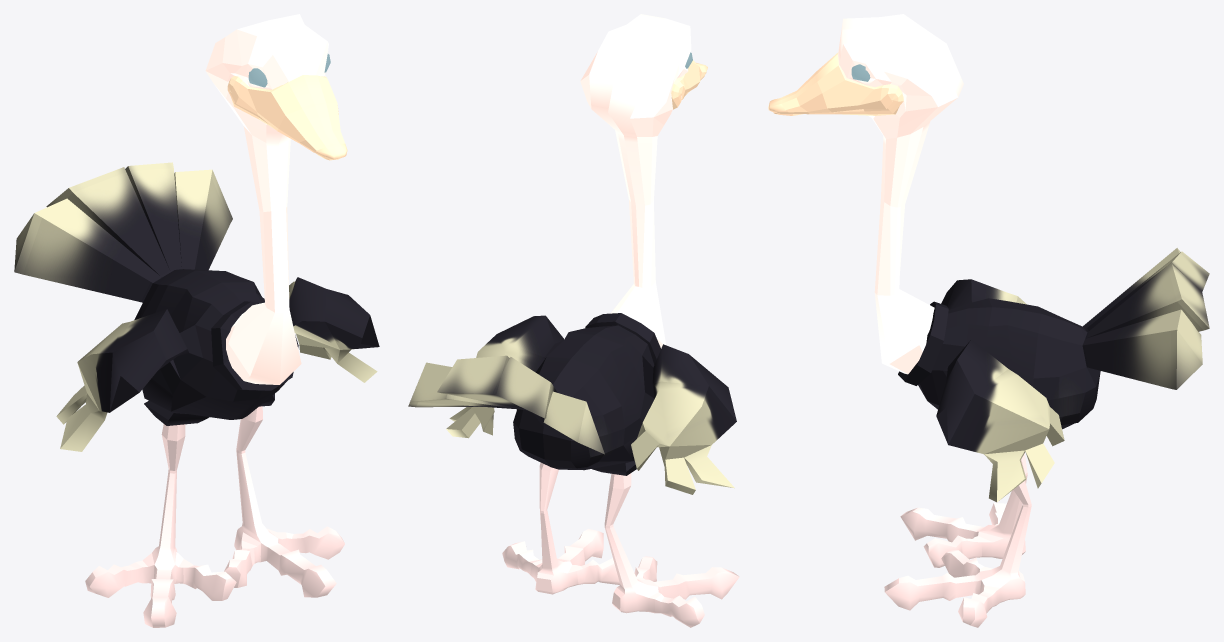
Rendered from Ostrich_FBX.fbx.
The picture shows the model from 3 angles, left to right: view 1: azimuth 30°, elevation 25°; view 2: azimuth 150°, elevation 25°; view 3: azimuth 270°, elevation 25°; orthographic projection. The views are drawn at different scales.
Visible parts, largest first — view 1: Body, Head, Legs; view 2: Body, Head, Legs; view 3: Body, Head, Legs.
Part boxes in pixels (x1,y1,x2,y2): Body: [14, 162, 379, 451]; Head: [205, 14, 347, 384]; Legs: [85, 406, 344, 627]; Body: [408, 313, 736, 494]; Head: [580, 14, 707, 348]; Legs: [502, 462, 739, 627]; Body: [898, 248, 1209, 502]; Head: [768, 14, 963, 374]; Legs: [884, 453, 1031, 627].
Size of the model in its own units: 19.95 by 35.32 by 25.45.
Materials: 6 (1 with a texture image).
